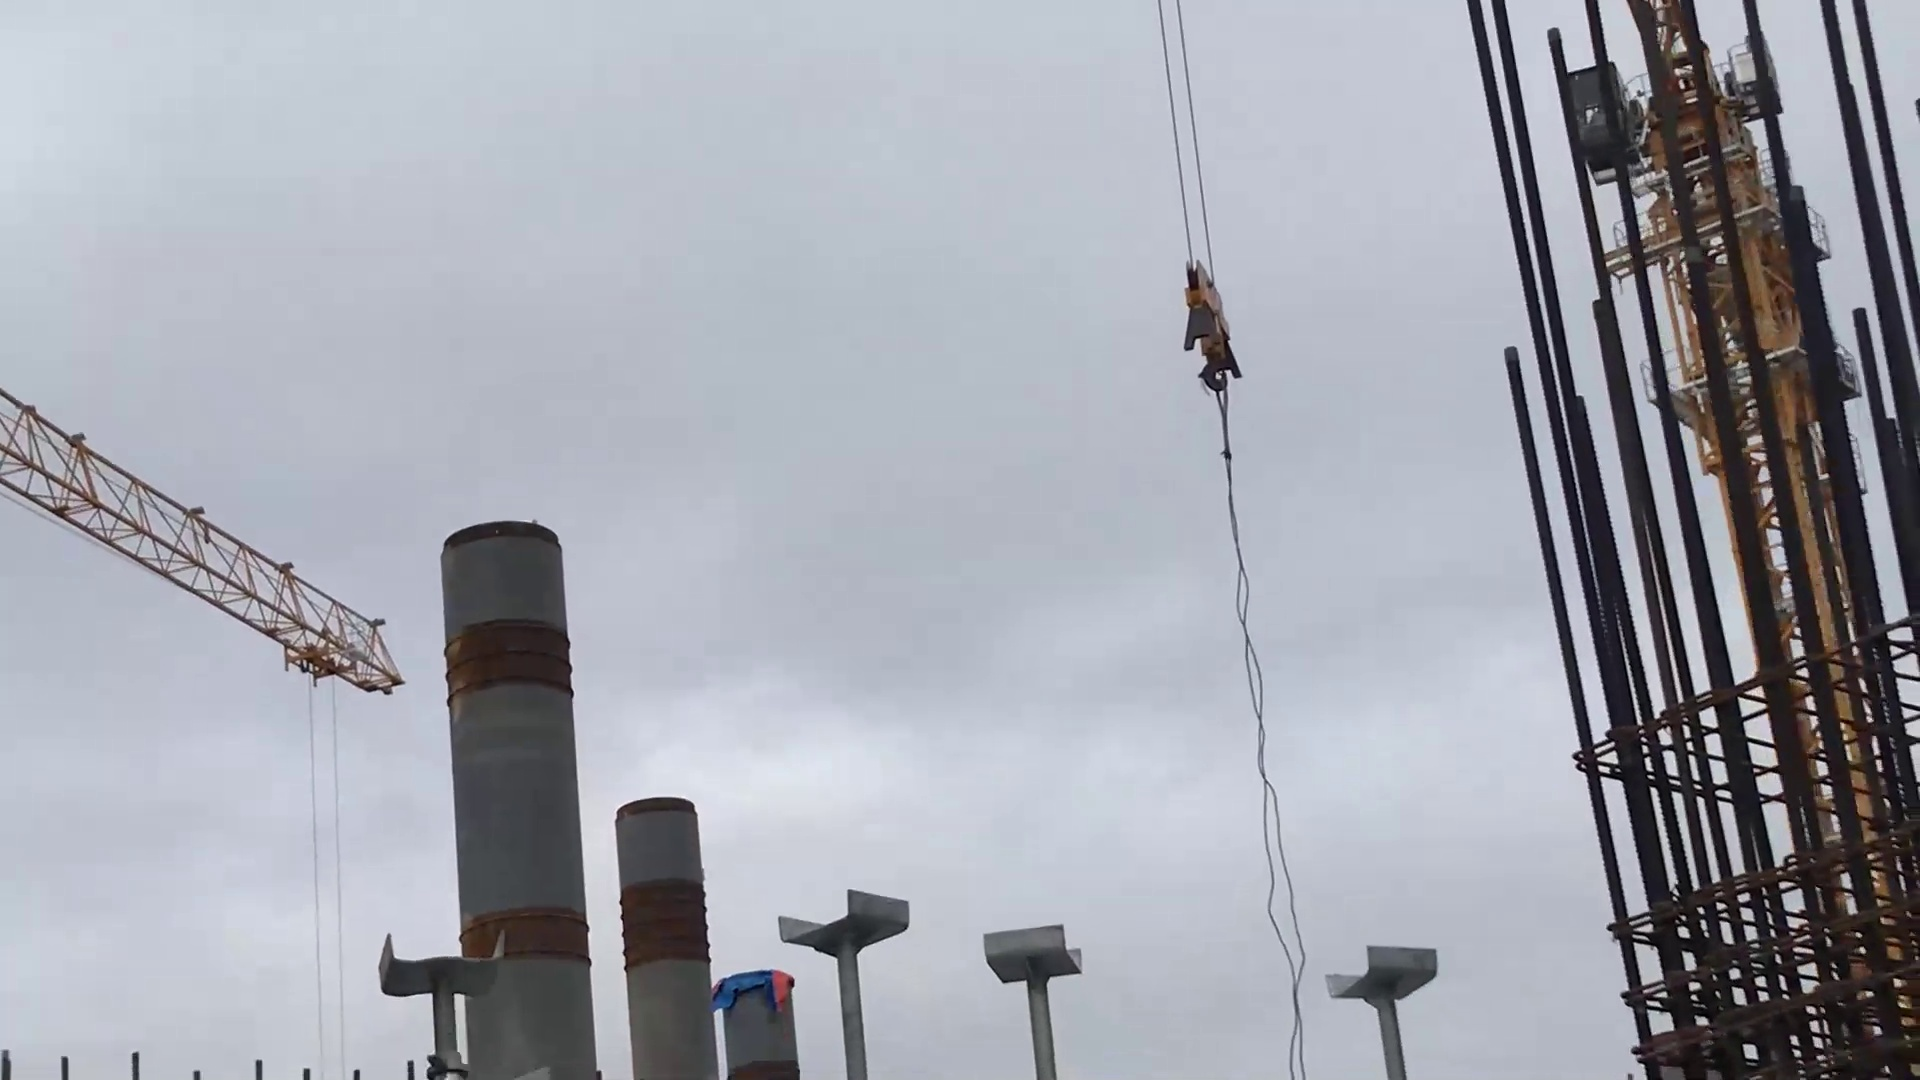hook: (1179, 241, 1247, 423)
